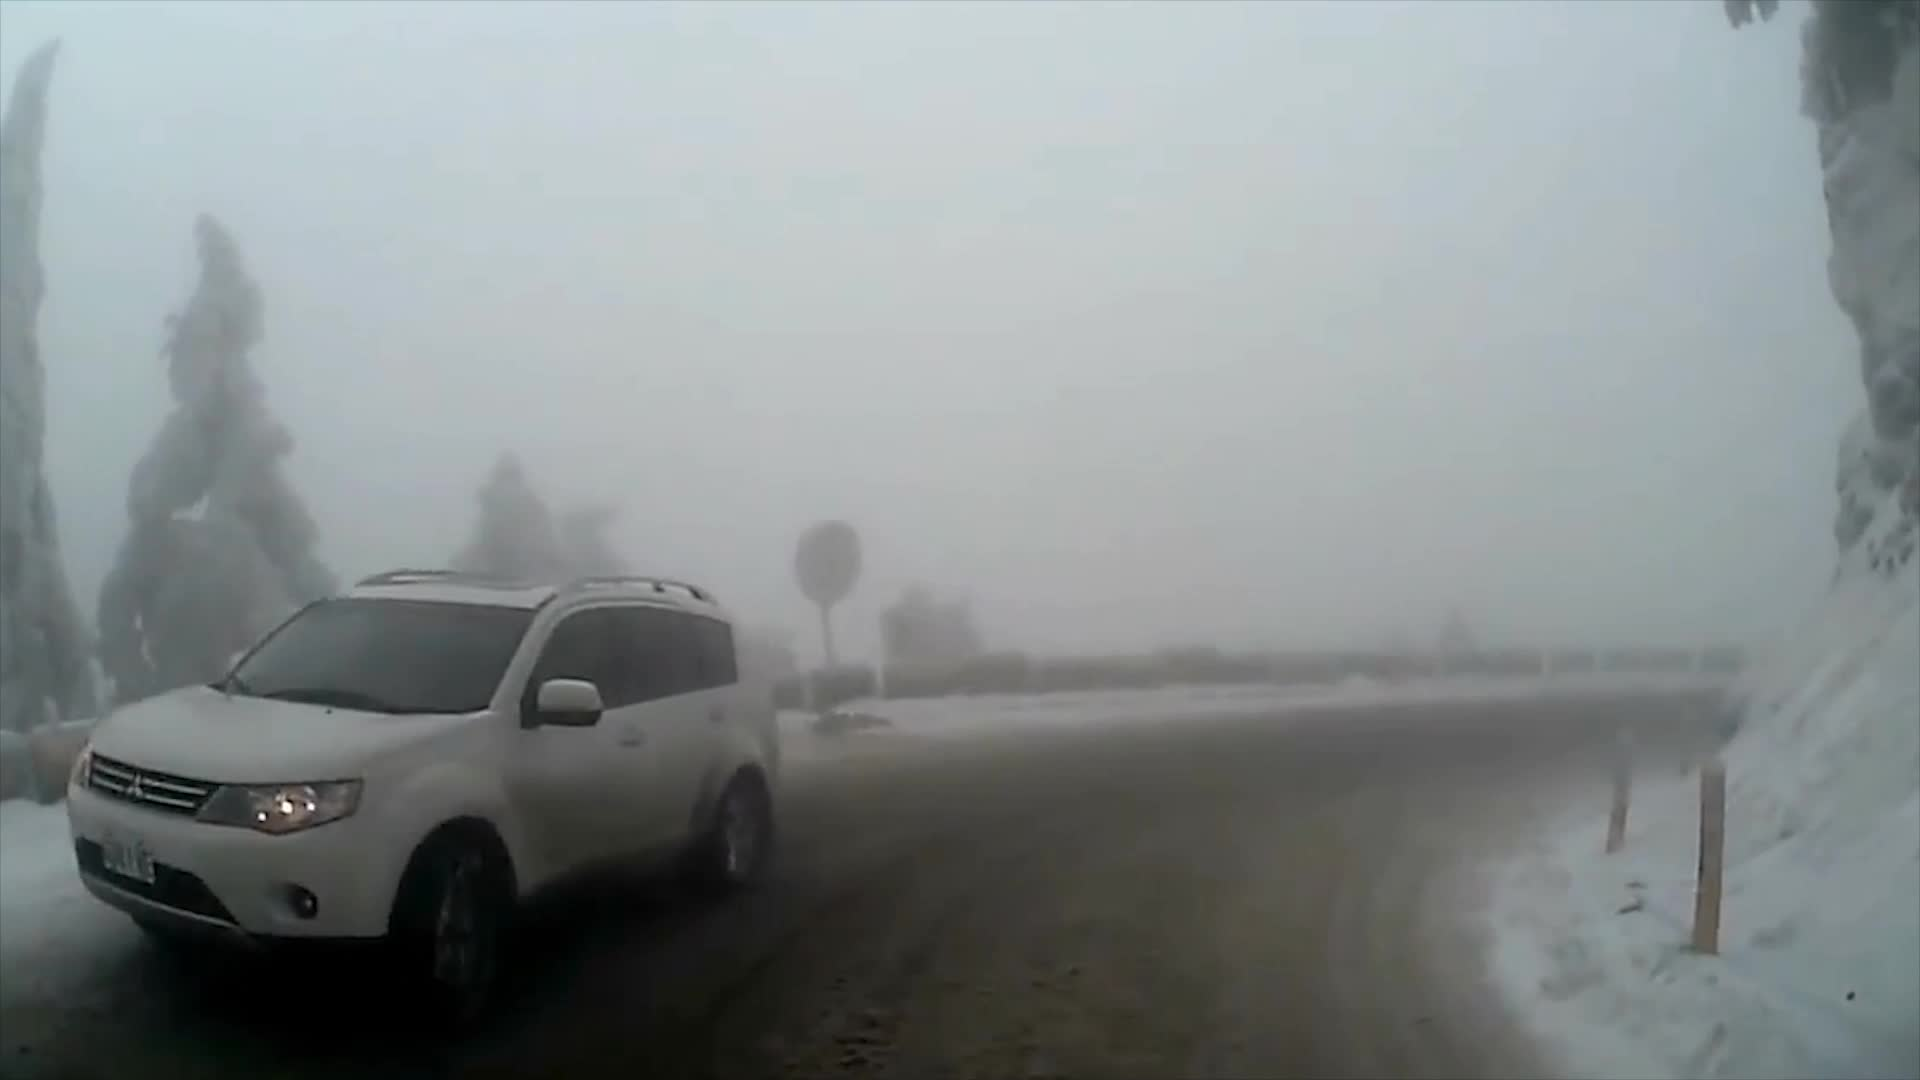vehicle: (62, 568, 778, 1005)
